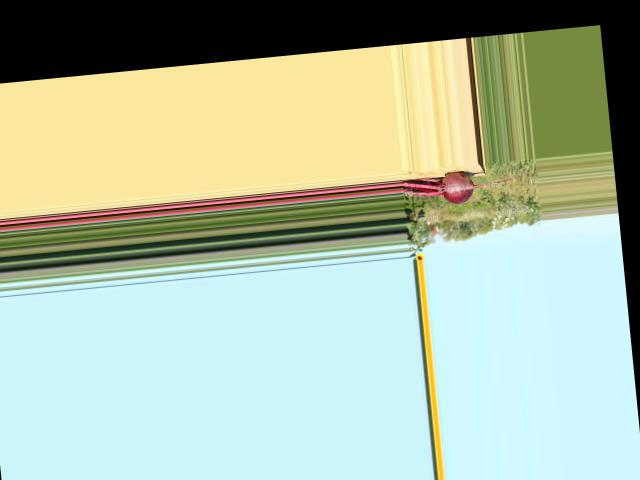beet: (400, 163, 534, 208)
